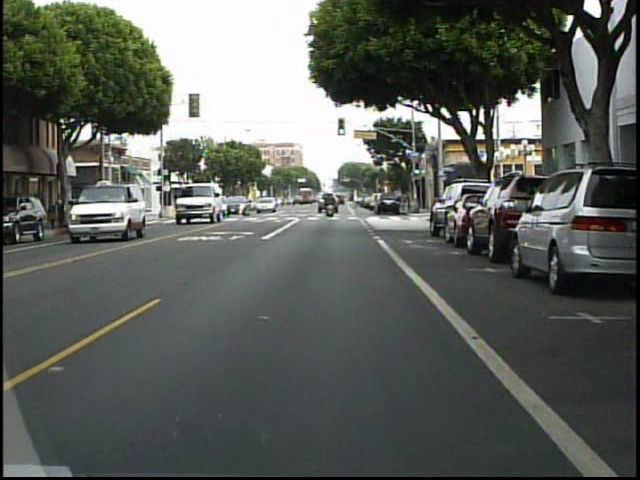person: (322, 191, 338, 220)
